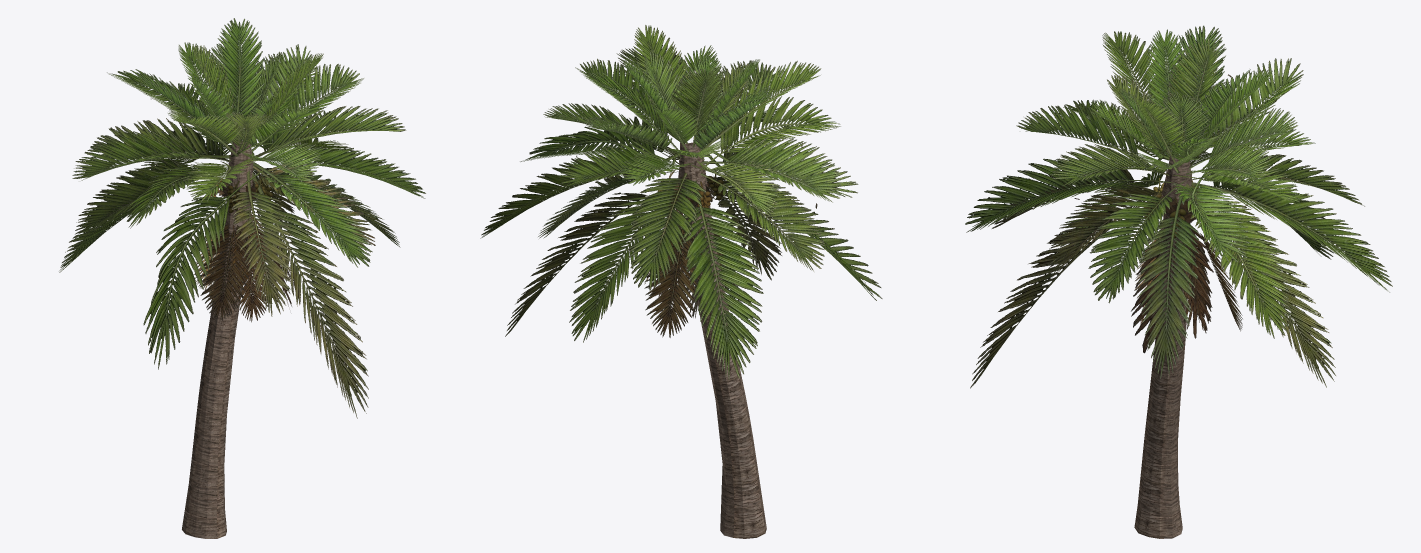
File: palmera_datilera.glb
The picture shows the model from 3 angles, left to right: view 1: azimuth 30°, elevation 25°; view 2: azimuth 150°, elevation 25°; view 3: azimuth 270°, elevation 25°; orthographic projection. The views are drawn at different scales.
Parts seen in each view (by area): view 1: copa, copa_medio, tronco_medio, tronco; view 2: copa, copa_medio, tronco_medio, tronco; view 3: copa, copa_medio, tronco_medio, tronco.
Part boxes in pixels (bbox=[...]): copa: bbox=[59, 18, 425, 418]; copa_medio: bbox=[72, 28, 408, 416]; tronco_medio: bbox=[182, 141, 251, 538]; tronco: bbox=[189, 142, 253, 538]; copa: bbox=[480, 25, 882, 379]; copa_medio: bbox=[500, 37, 859, 338]; tronco_medio: bbox=[678, 140, 766, 538]; tronco: bbox=[678, 141, 756, 538]; copa: bbox=[966, 25, 1392, 388]; copa_medio: bbox=[965, 26, 1389, 386]; tronco_medio: bbox=[1135, 155, 1192, 538]; tronco: bbox=[1134, 155, 1191, 538].
Bounding box in the file's own units: 10.71 × 13.58 × 11.
2 materials, 2 textured.
